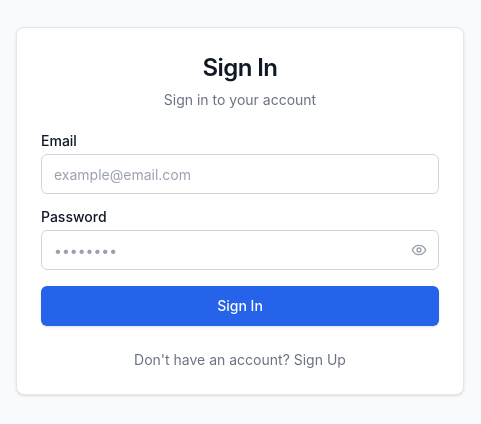
LoginPage › should show validation error when password is empty
The width and height of the screenshot is (481, 424).
Click the password field labelled "Password".
click(240, 250)  # box [41,230,439,270]
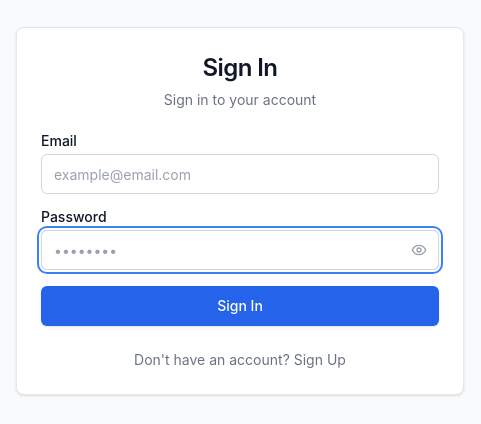
Press Tab
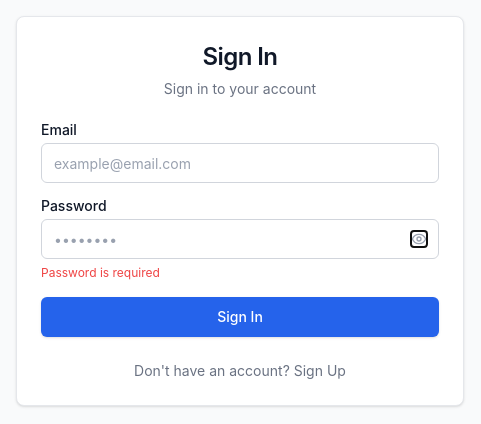
expect the text "Password is required" is shown: met, box [41,265,160,280]
